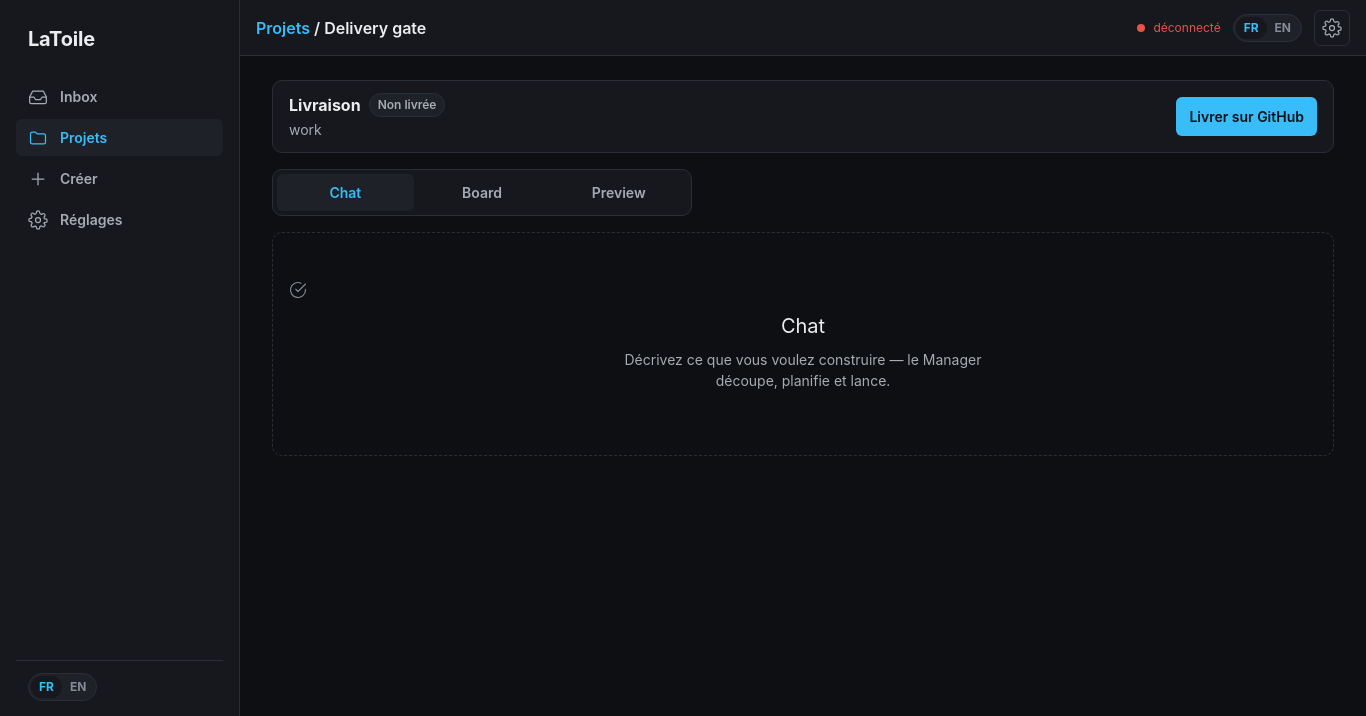
ISSUE-005 delivery prerequisites › shows the safe domain reason returned by a refused delivery
Click the button "Livrer sur GitHub": x=1247, y=116 [1176, 97, 1317, 136]
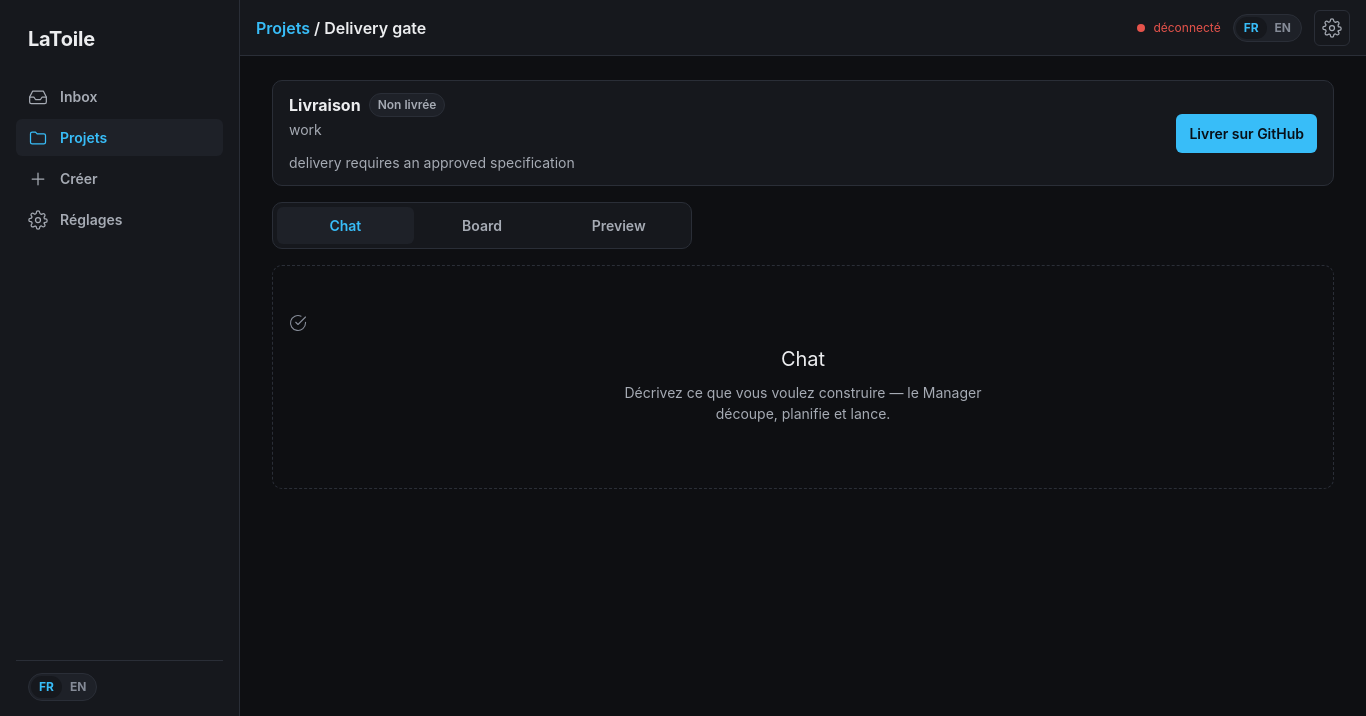
Check: the message reads "delivery requires an approved specification", box [289, 154, 575, 171]
